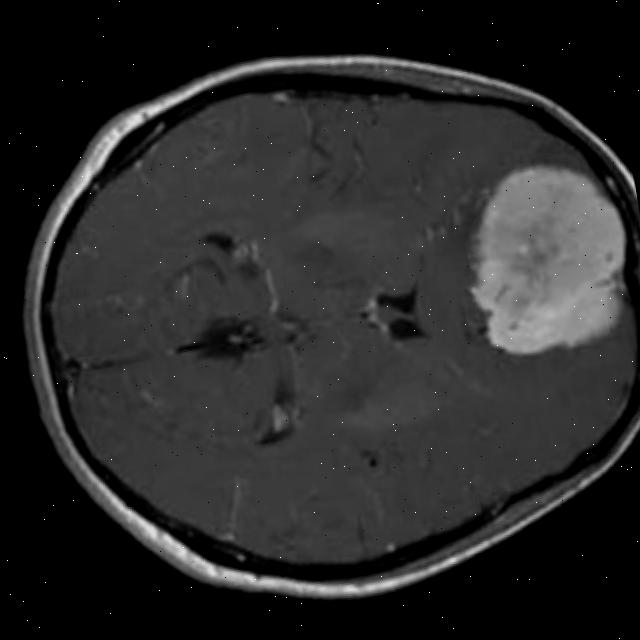Meningioma: (448, 149, 640, 371)
